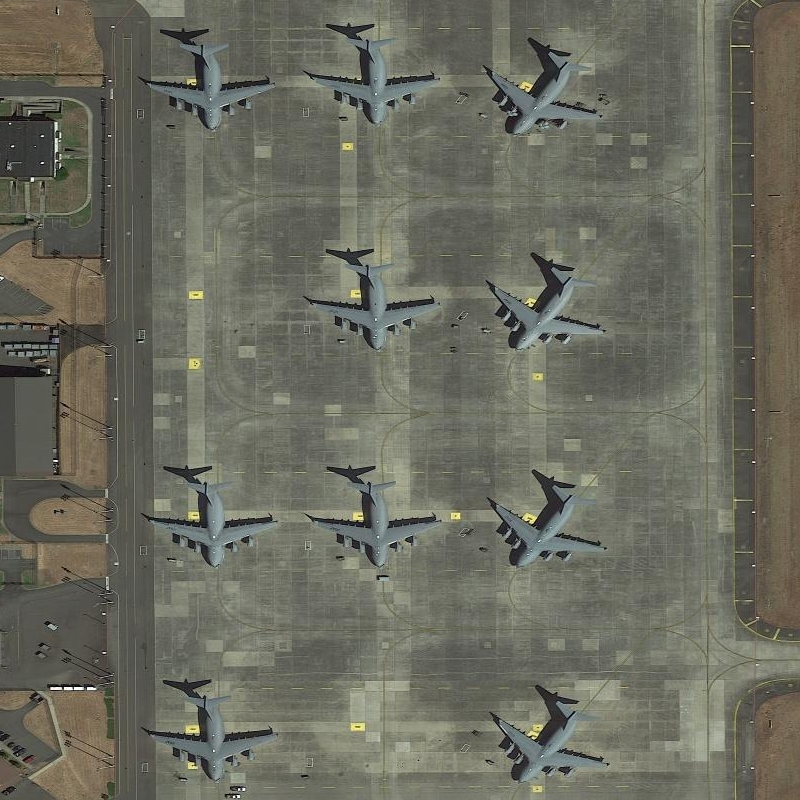A3: (307, 255, 445, 357), (146, 686, 281, 789), (303, 31, 446, 128), (143, 33, 280, 134), (142, 473, 283, 571), (313, 474, 446, 572), (484, 264, 610, 355), (490, 479, 609, 573), (493, 694, 612, 788), (487, 43, 600, 137)
